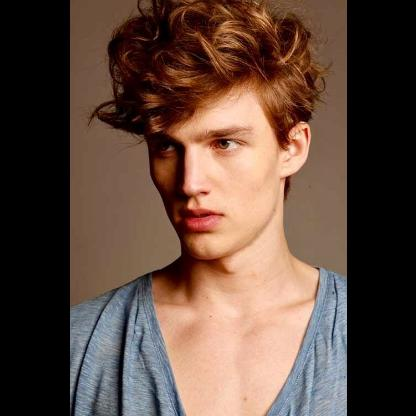Male: (143, 83, 310, 260)
